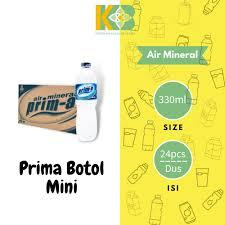BIODEGRADABLE: (71, 58, 109, 145)
